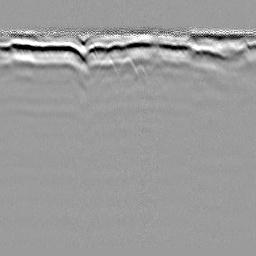cavity: (117, 56, 139, 77)
